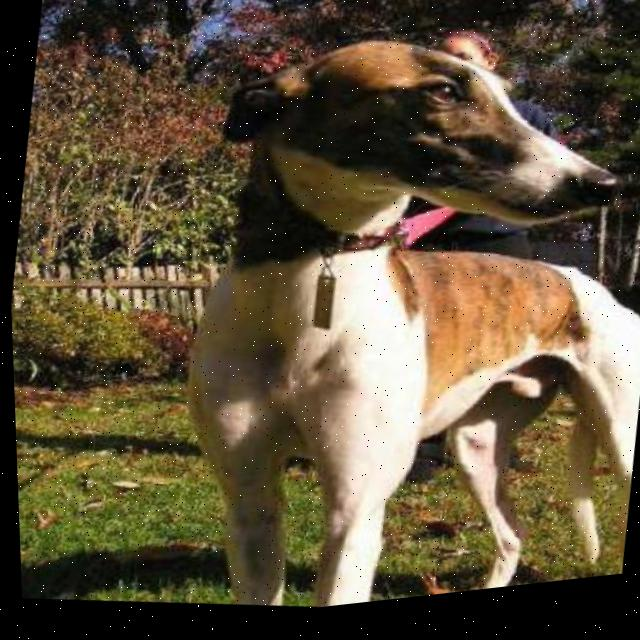dogs: (145, 0, 640, 627)
